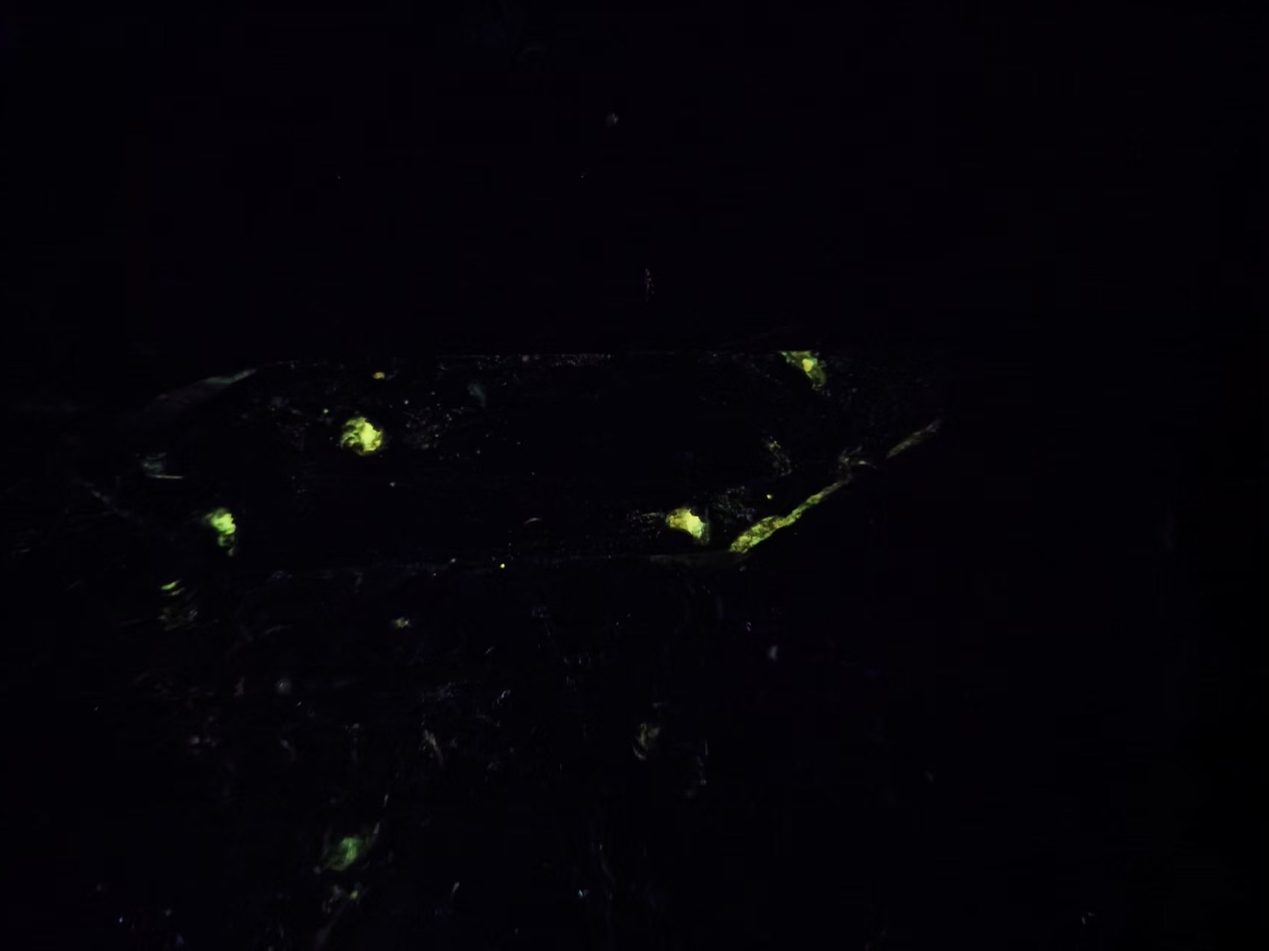Crater: (645, 486, 726, 563), (175, 486, 250, 563), (319, 406, 412, 467), (758, 342, 847, 405)
